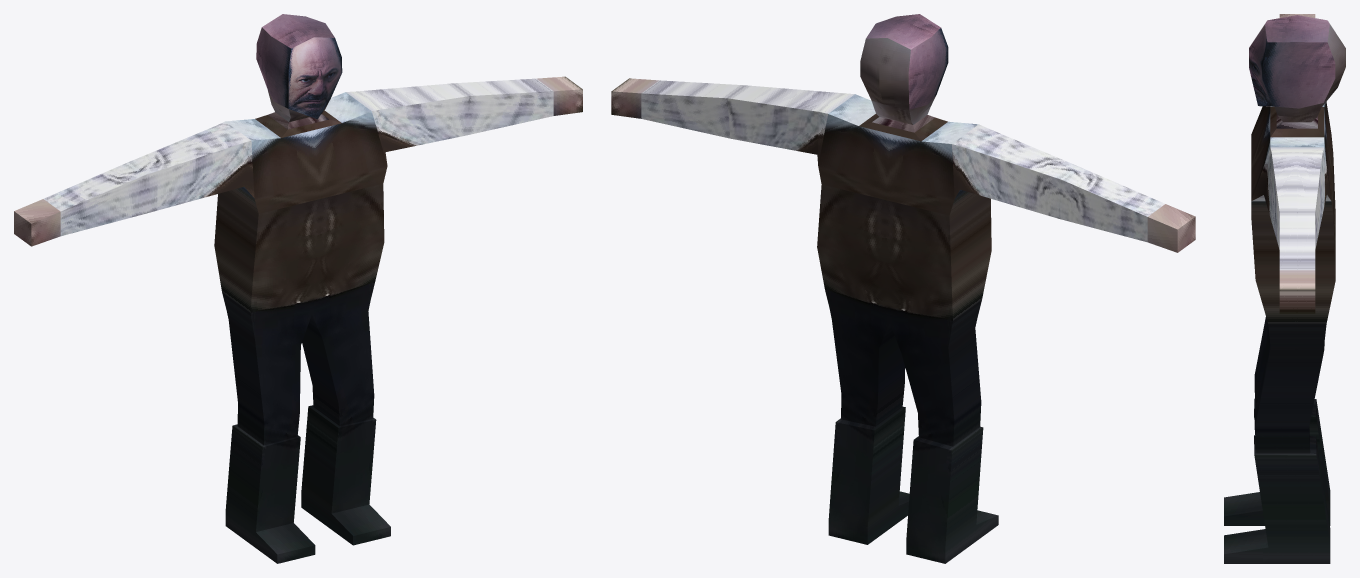
The model's file is Ruiz.glb.
3 views of the same model, side by side, from view 1: azimuth 30°, elevation 25°; view 2: azimuth 150°, elevation 25°; view 3: azimuth 270°, elevation 25° (orthographic). The views are drawn at different scales.
Visible parts, largest first — view 1: Ruiz; view 2: Ruiz; view 3: Ruiz.
Boxes of the visible parts, x1,y1,x2,y2 form: Ruiz: (14,14,582,563); Ruiz: (611,14,1195,563); Ruiz: (1224,14,1345,563).
Size of the model in its own units: 13.48 by 11.64 by 2.51.
Materials: 1 (1 with a texture image).
